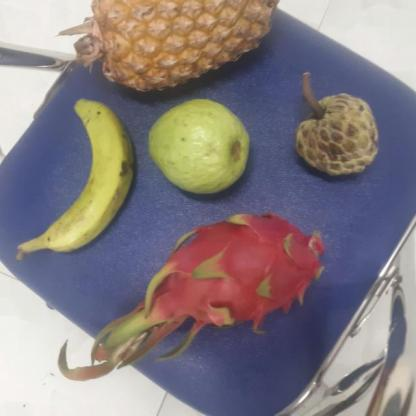annona: (296, 91, 383, 178)
banana: (32, 98, 140, 256)
guava: (148, 100, 254, 192)
pineapple: (94, 0, 280, 92)
pitaya: (150, 209, 330, 332)
